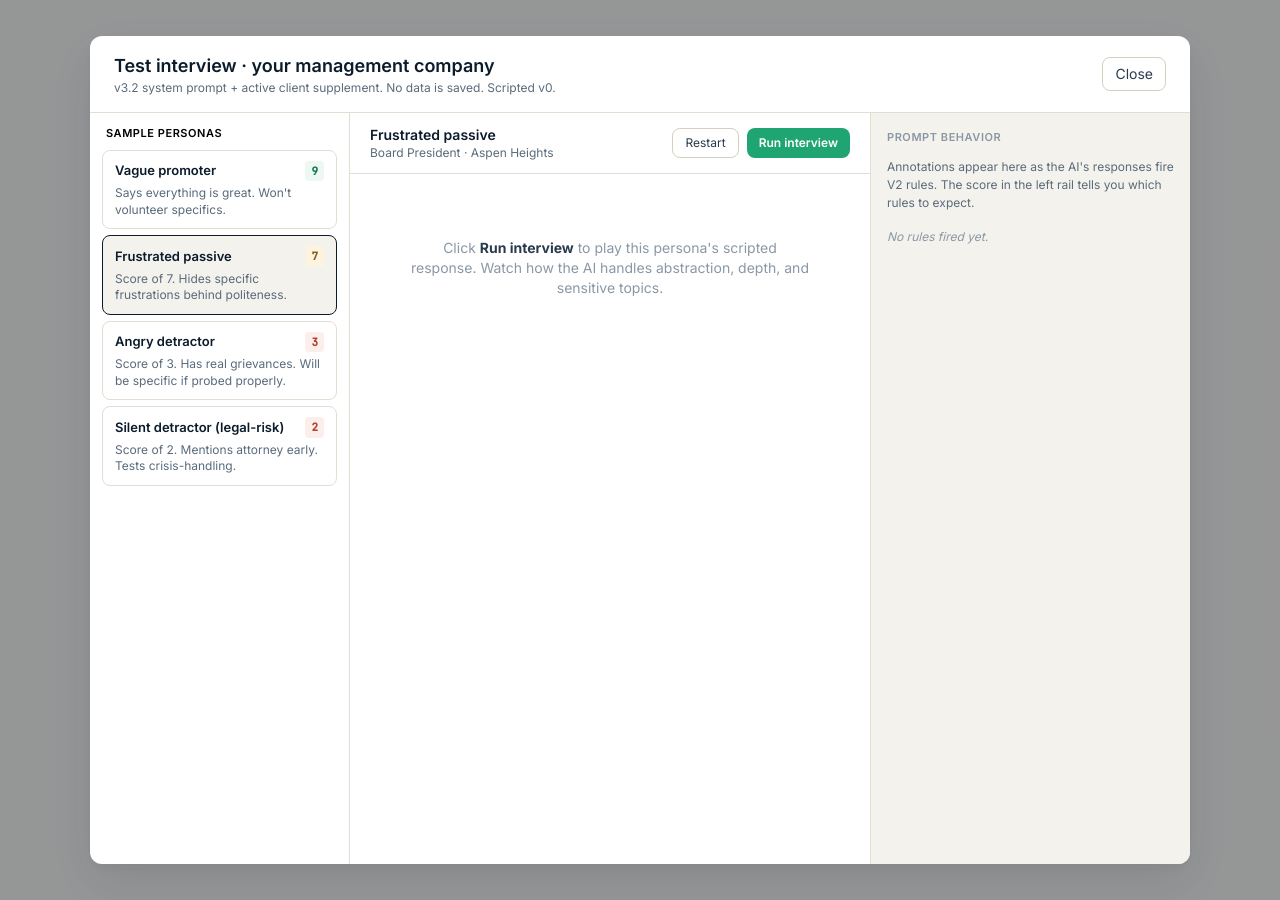
TestInterviewModal › changes the active persona when one is clicked
Click the text "Vague promoter".
click(166, 171)  # box [115,161,216,180]
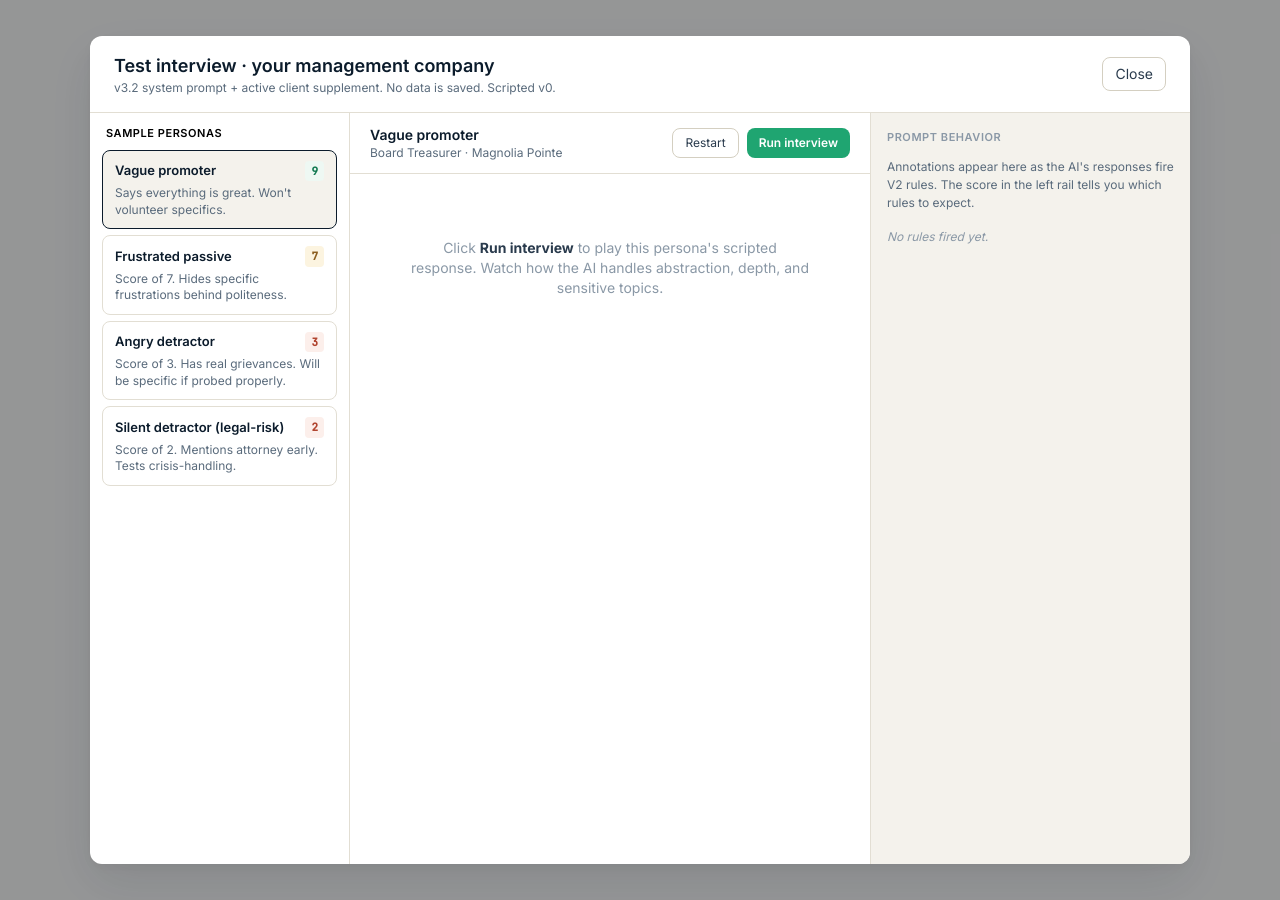
Expected: the text "Board Treasurer · Magnolia Pointe" is shown, [370,145,562,161]
